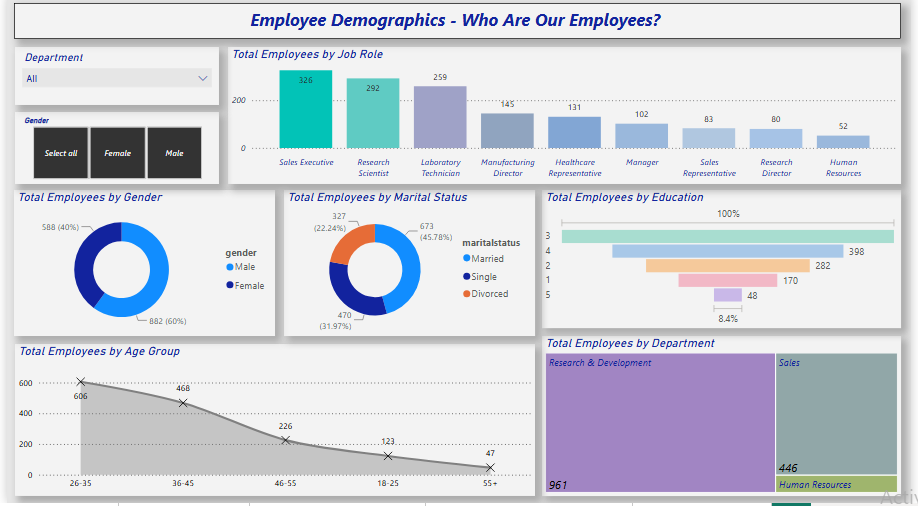

Layout of this report page (visuals, bound fields, positions):
{"tool":"powerbi","page":{"name":"Employee Demographics","canvas":[1280,720],"ordinal":2},"visuals":[{"type":"textbox","box":[9.9,11.3,1257.2,51],"z":0},{"type":"treemap","title":"Total Employees by Department","fields":{"Group":["hr_analytics_clean.department"],"Values":["hr_analytics_clean.Total Employees"]},"box":[758.3,483.3,508.8,226.8],"z":1000},{"type":"donutChart","title":"Total Employees by Gender","fields":{"Y":["hr_analytics_clean.Total Employees"],"Category":["hr_analytics_clean.gender"]},"box":[9.9,276.4,369.9,206.9],"z":2000},{"type":"lineChart","fields":{"Category":["hr_analytics_clean.Age Group"],"Y":["hr_analytics_clean.Total Employees"]},"box":[11.3,494.6,737,215.4],"z":3000},{"type":"funnel","title":"Total Employees by Education","fields":{"Category":["hr_analytics_clean.education"],"Y":["hr_analytics_clean.Total Employees"]},"box":[758.3,276.4,508.8,195.6],"z":4000},{"type":"donutChart","title":"Total Employees by Marital Status","fields":{"Category":["hr_analytics_clean.maritalstatus"],"Y":["hr_analytics_clean.Total Employees"]},"box":[392.6,276.4,355.7,206.9],"z":5000},{"type":"clusteredColumnChart","title":"Total Employees by Job Role","fields":{"Category":["hr_analytics_clean.jobrole"],"Y":["hr_analytics_clean.Total Employees"]},"box":[313.2,73.7,953.9,194.2],"z":6000},{"type":"slicer","fields":{"Values":["hr_analytics_clean.department"]},"box":[11.3,73.7,289.1,82.2],"z":7000},{"type":"slicer","fields":{"Values":["hr_analytics_clean.gender"]},"box":[11.3,165.8,289.1,102],"z":8000}]}

Visuals, with their boxes in screenshot pixels (x1, y1, x2, y2), scaled from the page's 1280x720 canvas onto the 918x506 screenshot:
textbox: (7,8,909,44)
"Total Employees by Department" treemap: (544,340,909,499)
"Total Employees by Gender" donutChart: (7,194,272,340)
lineChart - hr_analytics_clean.Age Group x hr_analytics_clean.Total Employees: (8,348,537,499)
"Total Employees by Education" funnel: (544,194,909,332)
"Total Employees by Marital Status" donutChart: (282,194,537,340)
"Total Employees by Job Role" clusteredColumnChart: (225,52,909,188)
slicer - hr_analytics_clean.department: (8,52,215,110)
slicer - hr_analytics_clean.gender: (8,117,215,188)
